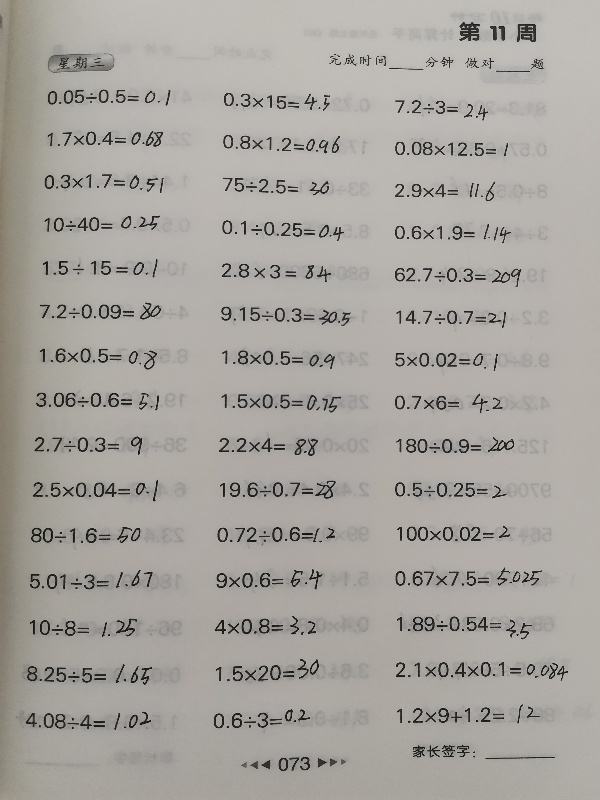equation: (390, 657, 577, 686), (392, 563, 546, 590), (392, 611, 535, 639), (393, 702, 543, 728), (22, 659, 155, 687), (30, 477, 162, 505), (390, 264, 524, 290), (25, 567, 156, 593), (36, 344, 160, 371), (21, 708, 154, 733), (217, 303, 353, 327), (32, 389, 162, 414), (36, 299, 165, 324), (216, 477, 340, 503), (390, 219, 514, 245), (217, 389, 344, 414), (40, 169, 167, 194), (44, 86, 175, 110), (218, 131, 343, 156), (217, 217, 347, 241), (212, 657, 323, 685), (213, 566, 327, 593), (40, 256, 162, 281), (391, 391, 507, 417), (214, 523, 339, 547), (26, 615, 141, 641), (31, 433, 146, 459), (27, 523, 145, 548), (211, 611, 319, 638), (392, 179, 499, 206), (218, 346, 338, 370), (40, 212, 163, 235), (44, 128, 167, 151), (392, 305, 509, 329), (391, 434, 518, 456), (218, 259, 334, 283), (390, 478, 509, 501), (219, 89, 333, 113), (390, 138, 512, 160), (215, 434, 321, 459), (394, 522, 514, 544), (391, 348, 501, 372), (209, 707, 313, 732), (218, 175, 332, 197), (391, 96, 492, 120)
